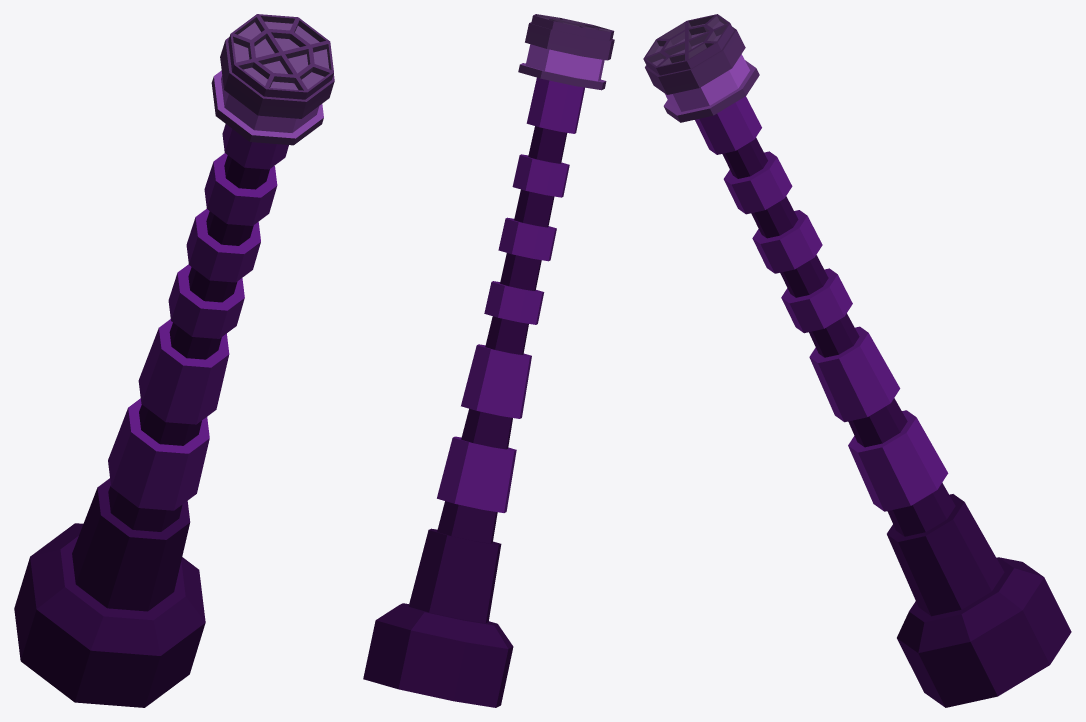
File: settingsObject.glb
The picture shows the model from 3 angles, left to right: view 1: azimuth 30°, elevation 25°; view 2: azimuth 150°, elevation 25°; view 3: azimuth 270°, elevation 25°; orthographic projection. The views are drawn at different scales.
Visible parts, largest first — view 1: body.004; view 2: body.004; view 3: body.004.
Part boxes in pixels (x1,y1,x2,y2): body.004: [14, 14, 334, 707]; body.004: [363, 14, 614, 707]; body.004: [643, 14, 1071, 707].
Size of the model in its own units: 0.0613 by 0.2796 by 0.1621.
Materials: 1 (1 with a texture image).
